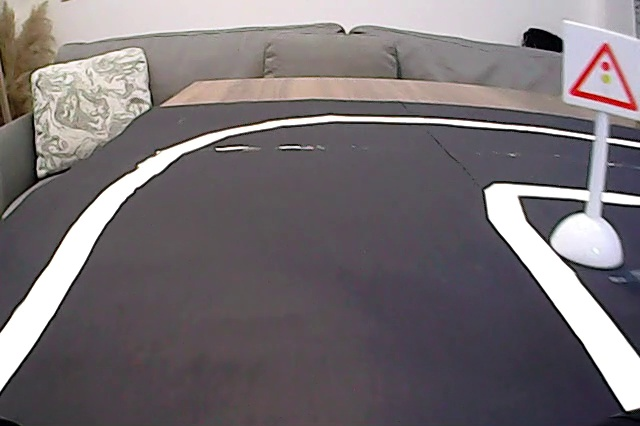red light: (565, 24, 636, 117)
